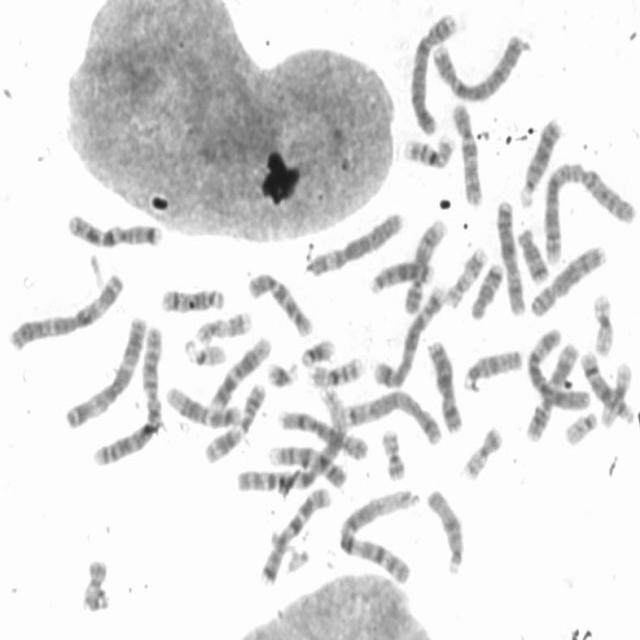A1: (235, 385, 348, 496), (338, 488, 418, 584)
A2: (90, 326, 164, 469), (540, 160, 636, 268)
A3: (6, 272, 126, 352), (66, 314, 148, 430)
B4: (432, 32, 524, 104), (409, 12, 457, 138)
B5: (373, 284, 448, 391), (341, 388, 443, 449)
C10: (247, 272, 314, 340), (451, 101, 484, 208)
C11: (525, 342, 580, 444), (204, 382, 266, 465)
C12: (209, 335, 271, 413), (164, 384, 242, 429)
C6: (309, 212, 403, 278), (526, 326, 590, 410)
C7: (258, 485, 332, 587), (65, 212, 163, 251)
C8: (530, 244, 608, 320), (276, 407, 370, 462)
C9: (404, 216, 447, 316), (267, 444, 347, 490)
D13: (519, 116, 562, 210), (370, 260, 434, 298)
D14: (579, 348, 636, 426), (160, 286, 224, 313)
D15: (425, 488, 467, 578), (462, 348, 524, 394)
E16: (401, 133, 456, 170), (310, 356, 363, 389)
E17: (444, 244, 488, 310), (194, 310, 252, 348)
E18: (470, 261, 504, 322), (516, 227, 550, 284)
F19: (599, 362, 633, 429), (591, 294, 615, 357)
F20: (462, 424, 506, 481), (80, 556, 112, 613), (380, 428, 407, 482)
G21: (300, 337, 336, 369), (266, 362, 300, 389)
G22: (562, 410, 598, 447), (181, 339, 227, 366)
X: (495, 198, 527, 318), (426, 340, 463, 436)
